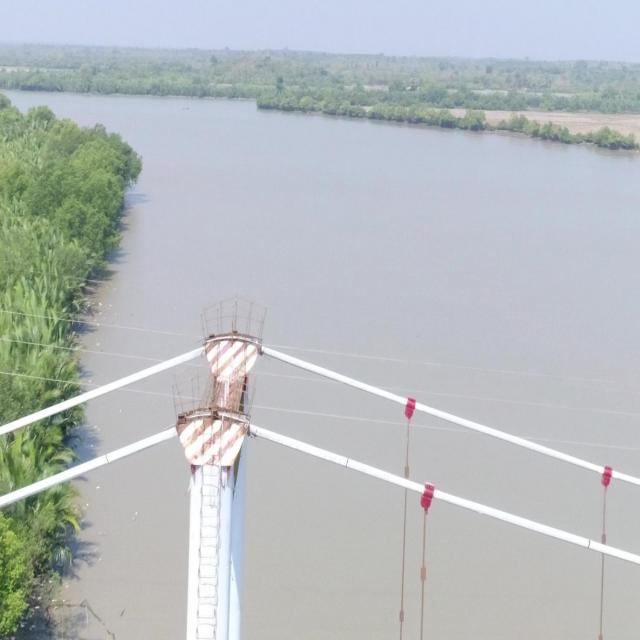crack: (106, 454, 110, 465), (588, 540, 590, 549), (346, 458, 348, 467)
